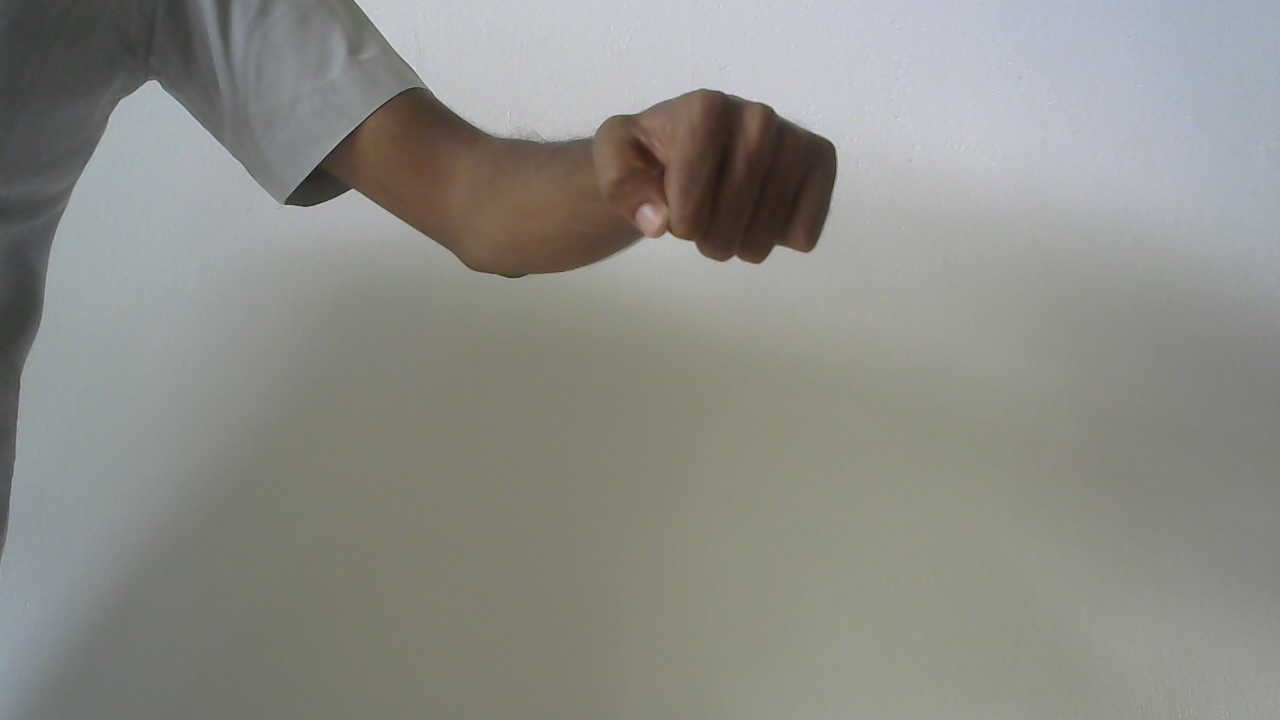yes: (575, 67, 855, 291)
